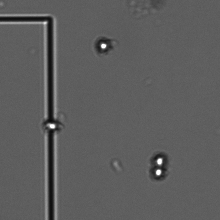Living Cell: (93, 35, 115, 56), (41, 118, 65, 134), (147, 166, 169, 180), (151, 151, 168, 167)
